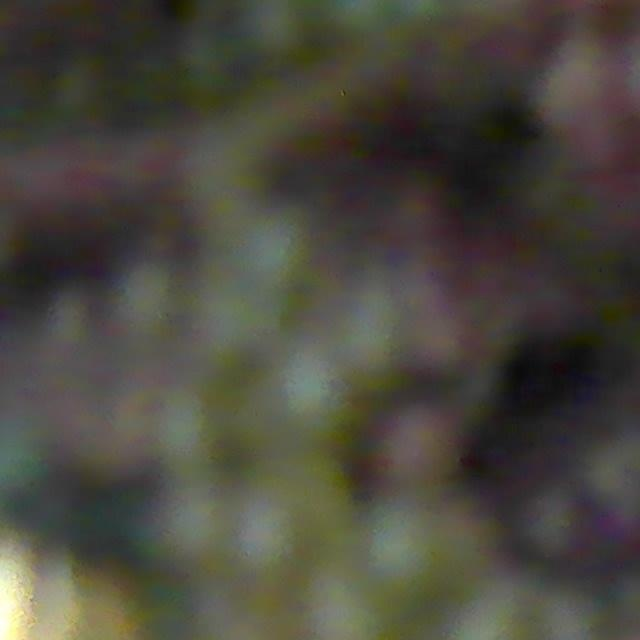SeaGrape: (546, 49, 629, 162), (366, 504, 450, 592), (297, 576, 398, 640), (518, 488, 588, 560), (162, 490, 229, 561), (235, 0, 314, 60)
